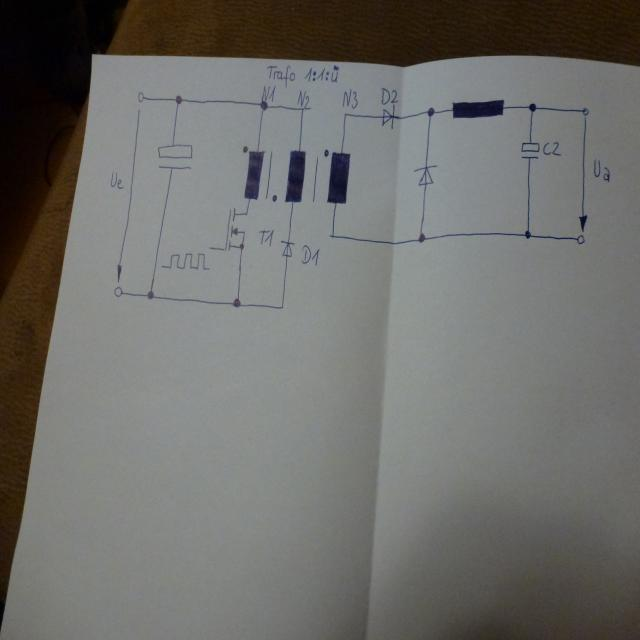capacitor: (155, 140, 194, 171), (520, 139, 540, 161)
diode: (410, 160, 437, 188), (379, 107, 394, 130), (279, 238, 294, 258)
inductor: (451, 95, 506, 121)
junction: (424, 104, 436, 119), (416, 231, 427, 244), (258, 100, 269, 113), (527, 100, 537, 114), (523, 227, 532, 241), (174, 93, 184, 105), (232, 296, 242, 308), (146, 288, 154, 301), (328, 230, 335, 240), (278, 302, 284, 310), (342, 110, 348, 118), (300, 106, 306, 113)
terminal: (112, 284, 124, 299), (135, 90, 146, 104), (575, 233, 585, 246), (580, 105, 590, 116), (206, 244, 213, 252)
text: (265, 64, 343, 82), (592, 156, 612, 182), (300, 244, 320, 266), (341, 87, 358, 109), (257, 228, 275, 248), (380, 86, 398, 106), (296, 88, 310, 110), (542, 140, 560, 156), (109, 170, 123, 190), (261, 83, 273, 104)
transformer: (241, 141, 354, 209)
transistor: (220, 205, 250, 253)
